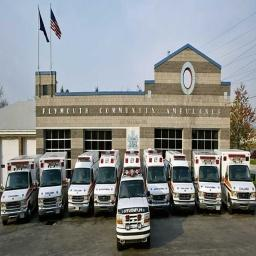Ambulance: (116, 150, 149, 250), (1, 155, 40, 224), (215, 149, 255, 213), (38, 152, 67, 219), (68, 151, 98, 214), (191, 150, 221, 212), (165, 150, 194, 213), (143, 148, 169, 215), (94, 149, 120, 213)
